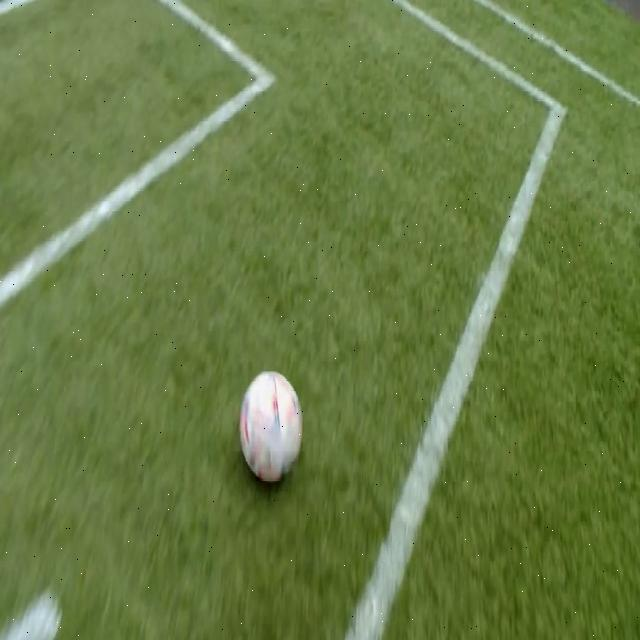ball: (240, 372, 302, 482)
